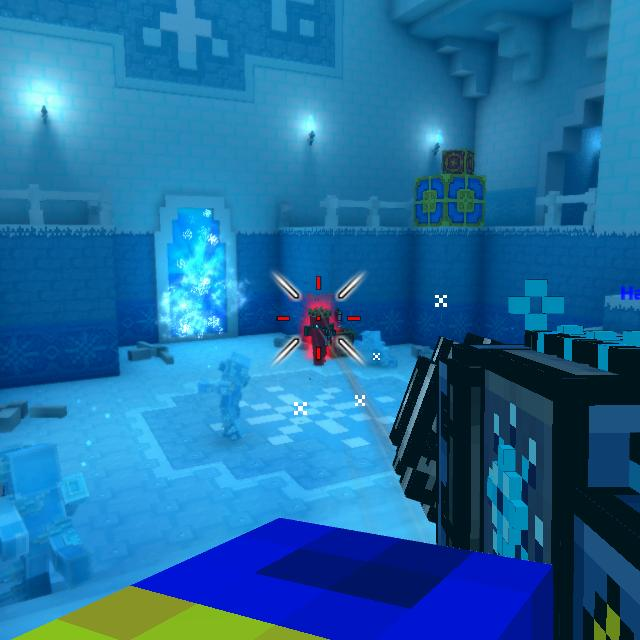Enemy: (303, 310, 335, 366)
